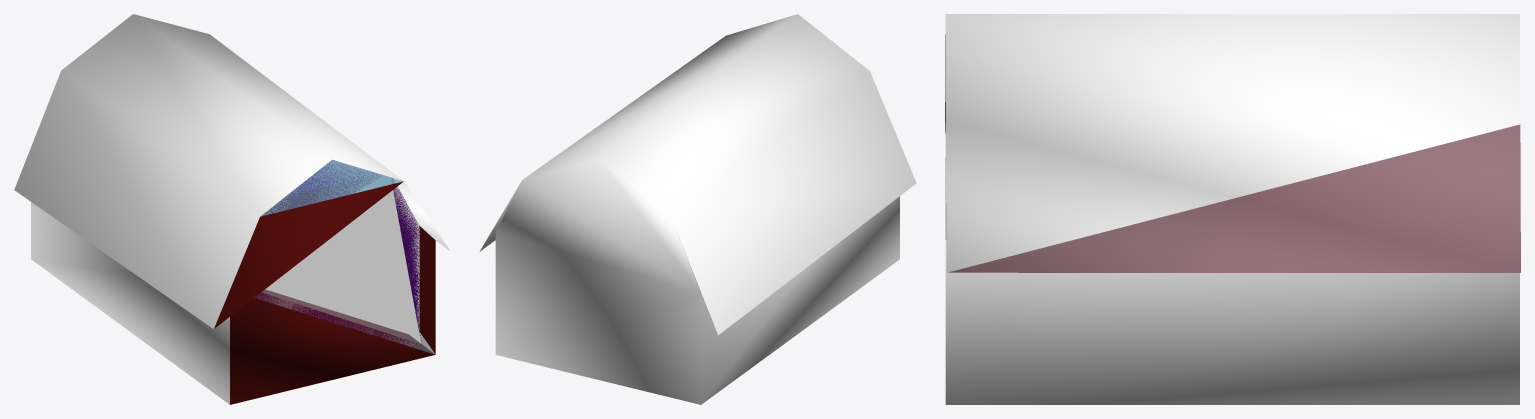
3 views of the same model, side by side, from view 1: azimuth 30°, elevation 25°; view 2: azimuth 150°, elevation 25°; view 3: azimuth 270°, elevation 25° (orthographic). The views are drawn at different scales.
Bounding box in the file's own units: 0.6552 × 0.5788 × 0.95.
